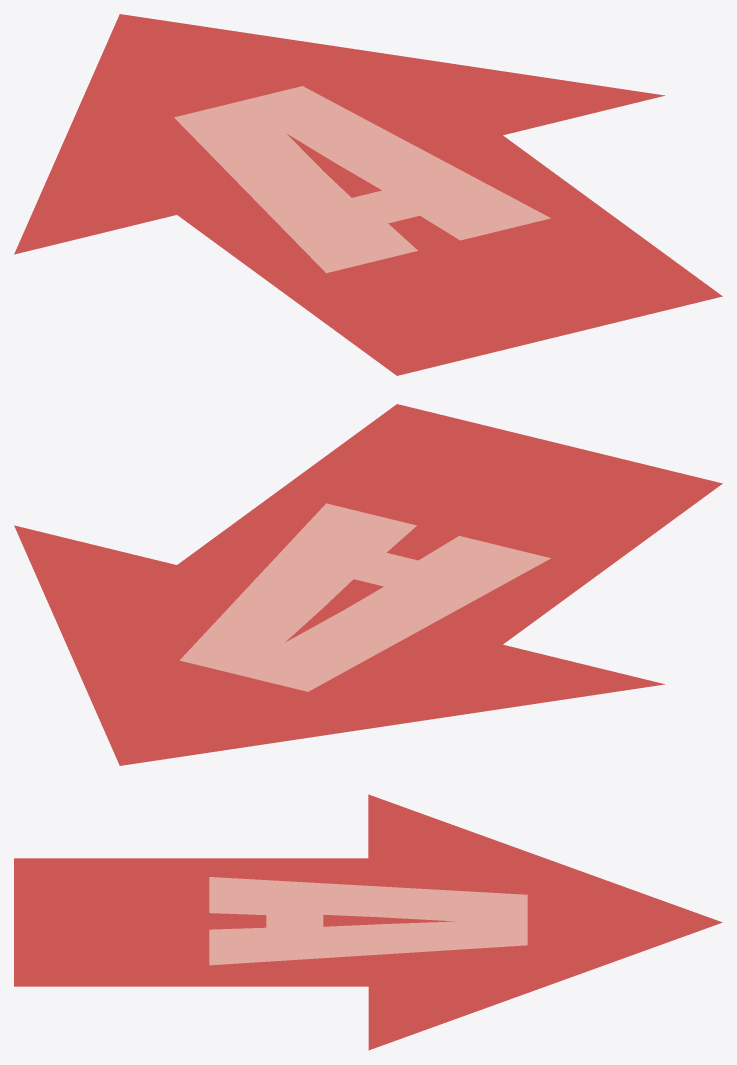
File: DE_Guide_A_01.fbx
3 renders of one model, top to bottom at view 1: azimuth 30°, elevation 25°; view 2: azimuth 150°, elevation 25°; view 3: azimuth 270°, elevation 25°, orthographic. The views are drawn at different scales.
Parts seen in each view (by area): view 1: DE_Guide_A_01; view 2: DE_Guide_A_01; view 3: DE_Guide_A_01.
Boxes of the visible parts, left/top/right/bottom form: DE_Guide_A_01: left=14, top=14, right=722, bottom=375; DE_Guide_A_01: left=14, top=404, right=722, bottom=765; DE_Guide_A_01: left=14, top=794, right=722, bottom=1050.
Size of the model in its own units: 102 by 0.2523 by 120.
